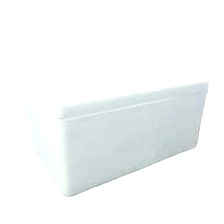foam_box: (18, 56, 216, 203)
